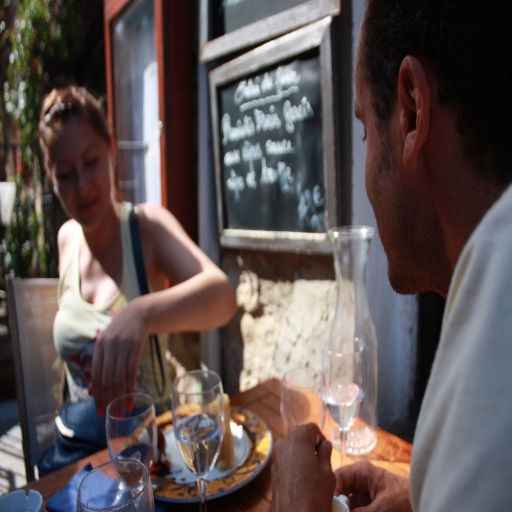hand: (76, 286, 167, 407), (268, 420, 336, 511), (333, 456, 411, 511)
